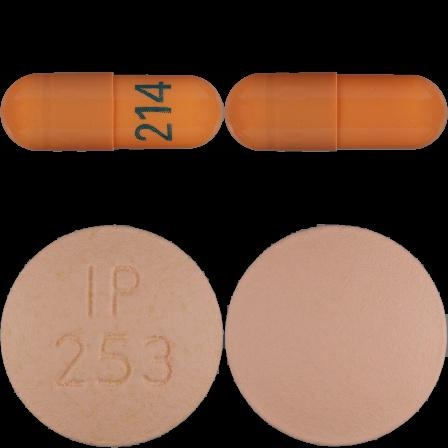50436-0224: (0, 0, 224, 224)
